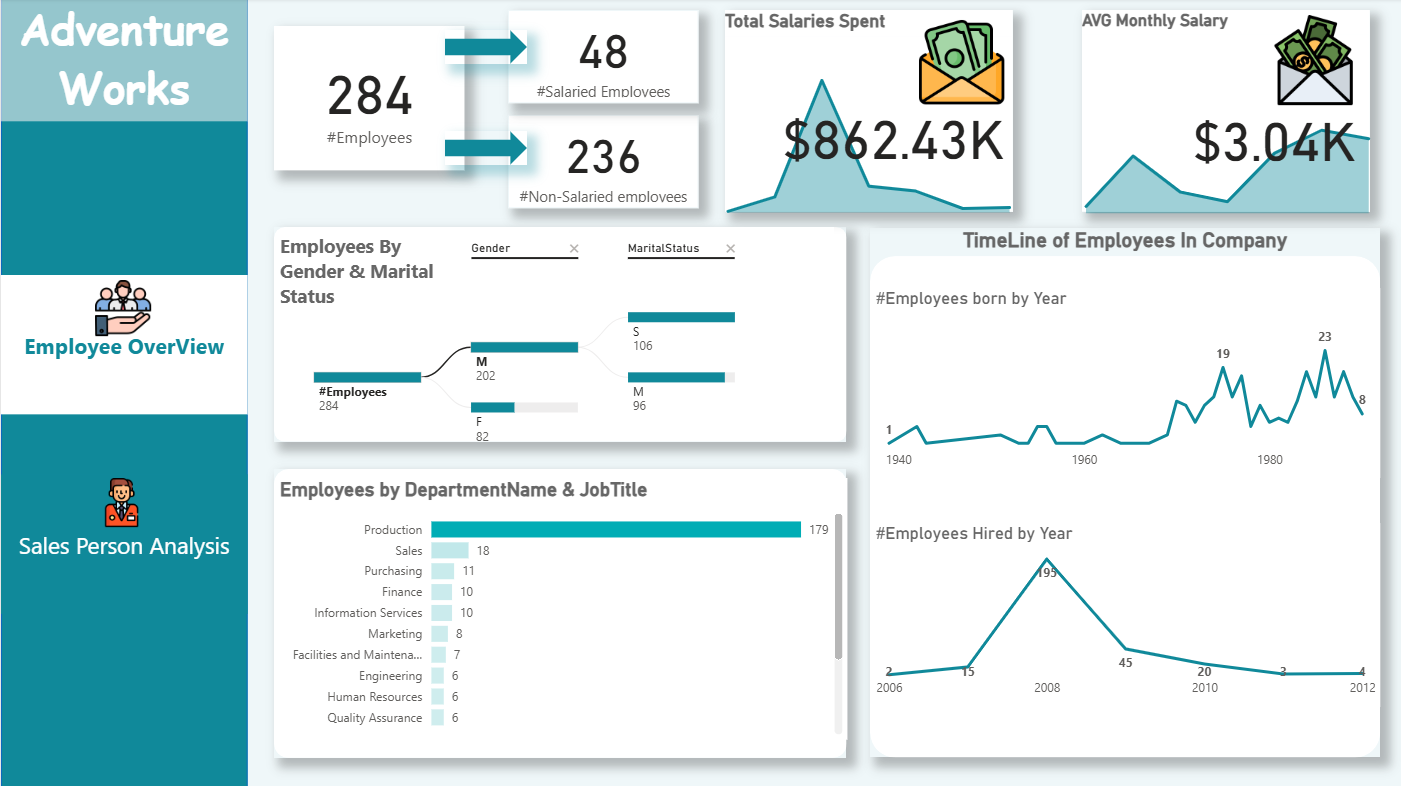

The page's visual inventory and layout, read from the dashboard file:
{"tool":"powerbi","page":{"name":"Employee OverView","canvas":[1400,800],"ordinal":0},"visuals":[{"type":"shape","box":[272.5,228.8,571.4,214.3],"z":0},{"type":"shape","box":[272.5,469.6,571.4,288.4],"z":1000},{"type":"shape","title":"TimeLine of Employees In Company","box":[866.4,229,509.1,528.4],"z":3000},{"type":"card","fields":{"Values":["AllMeasures.#Employees"]},"box":[272.5,27.8,190.5,144.2],"z":4000},{"type":"card","fields":{"Values":["AllMeasures.#Non-Salaried employees"]},"box":[505.3,116.4,190.5,92.6],"z":5000},{"type":"card","fields":{"Values":["AllMeasures.#Salaried Employees"]},"box":[505.3,11.9,190.5,92.6],"z":6000},{"type":"shape","box":[443.1,31.7,82,34],"z":7000},{"type":"shape","box":[443.1,132.3,82,34],"z":8000},{"type":"shape","title":"Total Salaries Spent","box":[722.2,11.9,287,201.1],"z":11000},{"type":"shape","title":"AVG Monthly Salary","box":[1078,11.9,287,201.1],"z":12000},{"type":"areaChart","fields":{"Y":["AllMeasures.Total Salary"],"Category":["DimEmployee.StartDate.Variation.Date Hierarchy.Year"]},"box":[710.3,58.2,310.8,162],"z":13000},{"type":"card","title":"Total Salaries Spent","fields":{"Values":["AllMeasures.Total Salary"]},"box":[771.2,91.3,238.1,87.3],"z":14000},{"type":"image","box":[907.4,10.6,100.5,105.8],"z":15000},{"type":"image","box":[1256.6,9.3,108.5,105.8],"z":16000},{"type":"areaChart","fields":{"Y":["AllMeasures.AVG Salary"],"Category":["DimEmployee.StartDate.Variation.Date Hierarchy.Year"]},"box":[1067.5,104.5,312,115],"z":17000},{"type":"card","fields":{"Values":["AllMeasures.AVG Salary"]},"box":[1164,91.3,211.6,92.6],"z":18000},{"type":"decompositionTreeVisual","fields":{"Analyze":["AllMeasures.#Employees"],"ExplainBy":["DimEmployee.Gender","DimEmployee.MaritalStatus"]},"box":[287,228.8,543.7,214.3],"z":19000},{"type":"lineChart","title":"#Employees born by Year","fields":{"Category":["DimEmployee.BirthDate.Variation.Date Hierarchy.Year"],"Y":["AllMeasures.#Employees"]},"box":[867.7,289.7,507.9,189.2],"z":20000},{"type":"lineChart","title":"#Employees Hired by Year","fields":{"Category":["DimEmployee.StartDate.Variation.Date Hierarchy.Year"],"Y":["AllMeasures.#Employees"]},"box":[867.7,523.8,507.9,182.5],"z":21000},{"type":"textbox","box":[273.3,229.4,189.5,106.7],"z":22000},{"type":"barChart","title":"Employees by DepartmentName & JobTitle","fields":{"Category":["DimEmployee.DepartmentName Hierarchy.DepartmentName","DimEmployee.DepartmentName Hierarchy.Title"],"Y":["AllMeasures.#Employees"]},"box":[273.2,478.7,571.1,260.7],"z":23000},{"type":"shape","box":[0,0,246,800.3],"z":24000},{"type":"textbox","box":[0,0,246,123],"z":25000},{"type":"pageNavigator","box":[0,276.5,246,338.6],"z":27500},{"type":"image","box":[81.8,276.3,80.8,65.8],"z":28500},{"type":"image","box":[81.8,473.8,76.8,58.9],"z":29000}]}

Visuals, with their boxes in screenshot pixels (x1, y1, x2, y2), scaled from the page's 1400x800 canvas onto the 1401x786 screenshot:
shape: detection(273, 225, 845, 435)
shape: detection(273, 461, 845, 745)
"TimeLine of Employees In Company" shape: detection(867, 225, 1376, 744)
card - AllMeasures.#Employees: detection(273, 27, 463, 169)
card - AllMeasures.#Non-Salaried employees: detection(506, 114, 696, 205)
card - AllMeasures.#Salaried Employees: detection(506, 12, 696, 103)
shape: detection(443, 31, 525, 65)
shape: detection(443, 130, 525, 163)
"Total Salaries Spent" shape: detection(723, 12, 1010, 209)
"AVG Monthly Salary" shape: detection(1079, 12, 1366, 209)
areaChart - AllMeasures.Total Salary x DimEmployee.StartDate.Variation.Date Hierarchy.Year: detection(711, 57, 1022, 216)
"Total Salaries Spent" card: detection(772, 90, 1010, 175)
image: detection(908, 10, 1009, 114)
image: detection(1257, 9, 1366, 113)
areaChart - AllMeasures.AVG Salary x DimEmployee.StartDate.Variation.Date Hierarchy.Year: detection(1068, 103, 1380, 216)
card - AllMeasures.AVG Salary: detection(1165, 90, 1377, 181)
decompositionTreeVisual - AllMeasures.#Employees x DimEmployee.Gender: detection(287, 225, 831, 435)
"#Employees born by Year" lineChart: detection(868, 285, 1377, 471)
"#Employees Hired by Year" lineChart: detection(868, 515, 1377, 694)
textbox: detection(273, 225, 463, 330)
"Employees by DepartmentName & JobTitle" barChart: detection(273, 470, 845, 726)
shape: detection(0, 0, 246, 785)
textbox: detection(0, 0, 246, 121)
pageNavigator: detection(0, 272, 246, 604)
image: detection(82, 271, 163, 336)
image: detection(82, 466, 159, 523)
